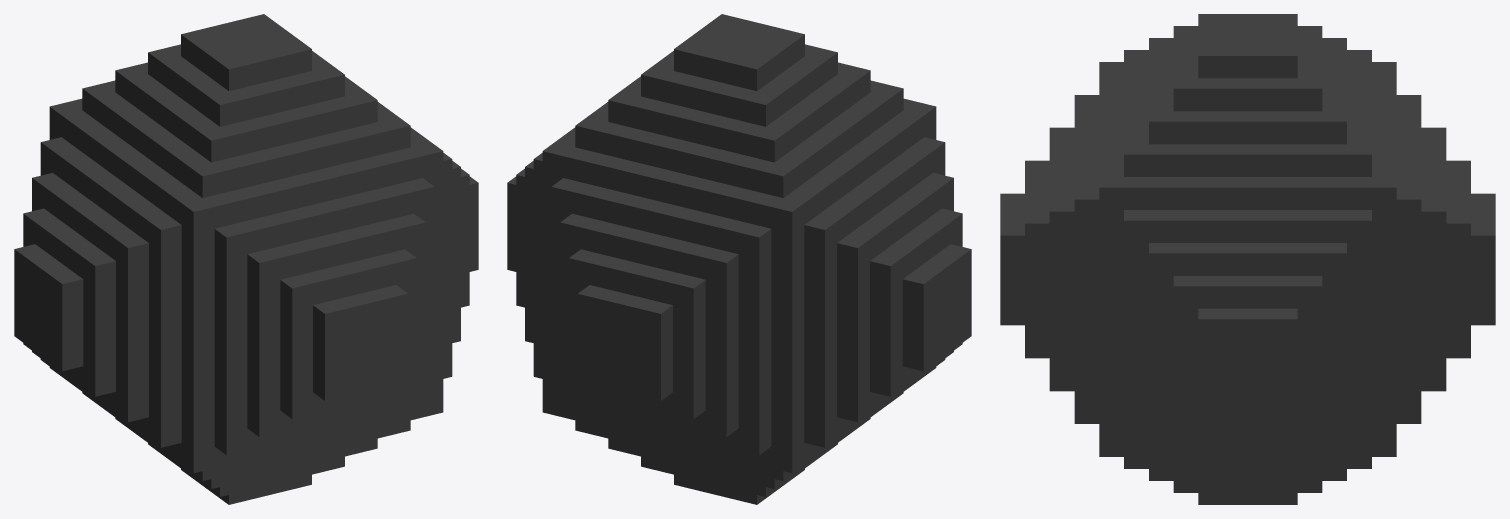
Rendered from Bola_Cañon.dae.
3 renders of one model, left to right at view 1: azimuth 30°, elevation 25°; view 2: azimuth 150°, elevation 25°; view 3: azimuth 270°, elevation 25°, orthographic. The views are drawn at different scales.
Parts seen in each view (by area): view 1: Node-local; view 2: Node-local; view 3: Node-local.
Boxes of the visible parts, bbox=[...] form: Node-local: bbox=[14, 14, 478, 504]; Node-local: bbox=[507, 14, 971, 504]; Node-local: bbox=[1000, 14, 1495, 504].
Bounding box in the file's own units: 20 × 20 × 20.
Materials: 1 (1 with a texture image).
